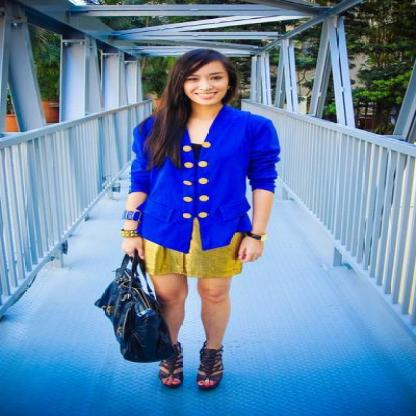bag: (95, 249, 182, 366)
jacket: (130, 105, 279, 253)
shoe: (158, 341, 223, 392)
skirt: (140, 218, 261, 279)
